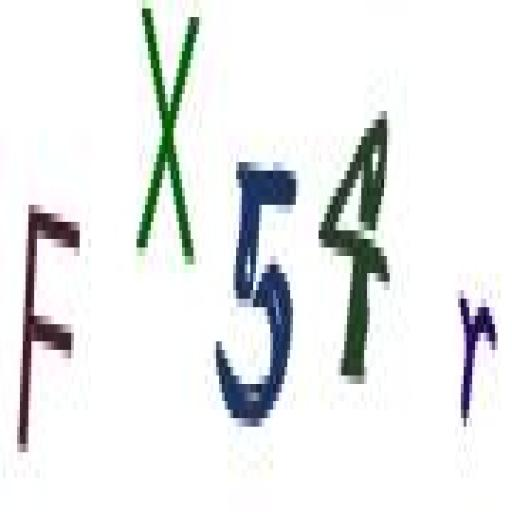4: (314, 93, 396, 404)
5: (210, 138, 298, 435)
F: (15, 189, 85, 465)
X: (130, 0, 202, 274)
r: (454, 281, 498, 438)
